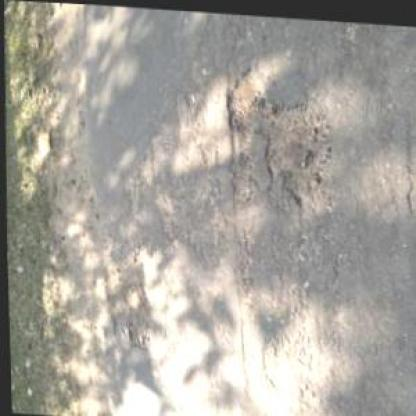pothole: (261, 92, 334, 202), (97, 238, 151, 354), (221, 60, 268, 133)
